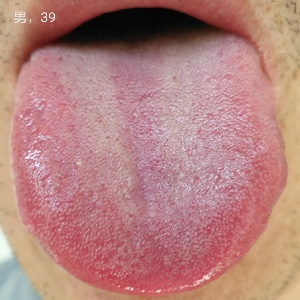st: (10, 53, 289, 295)
